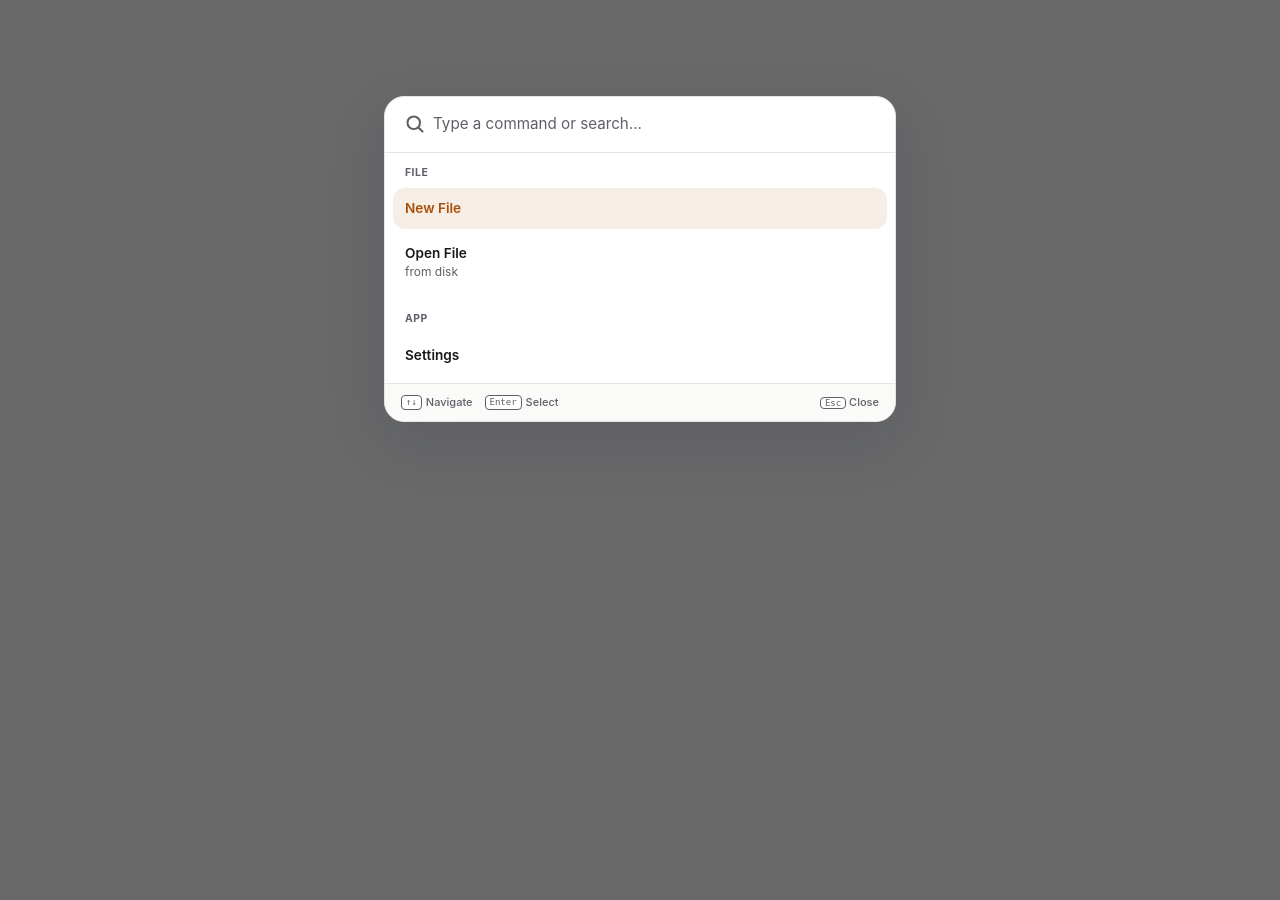
Scenario: CommandPalette › filtering › shows an empty state when nothing matches
This screenshot has width=1280, height=900.
In the dropdown: (656, 124) 433,113 -> 879,136, type "zzz"
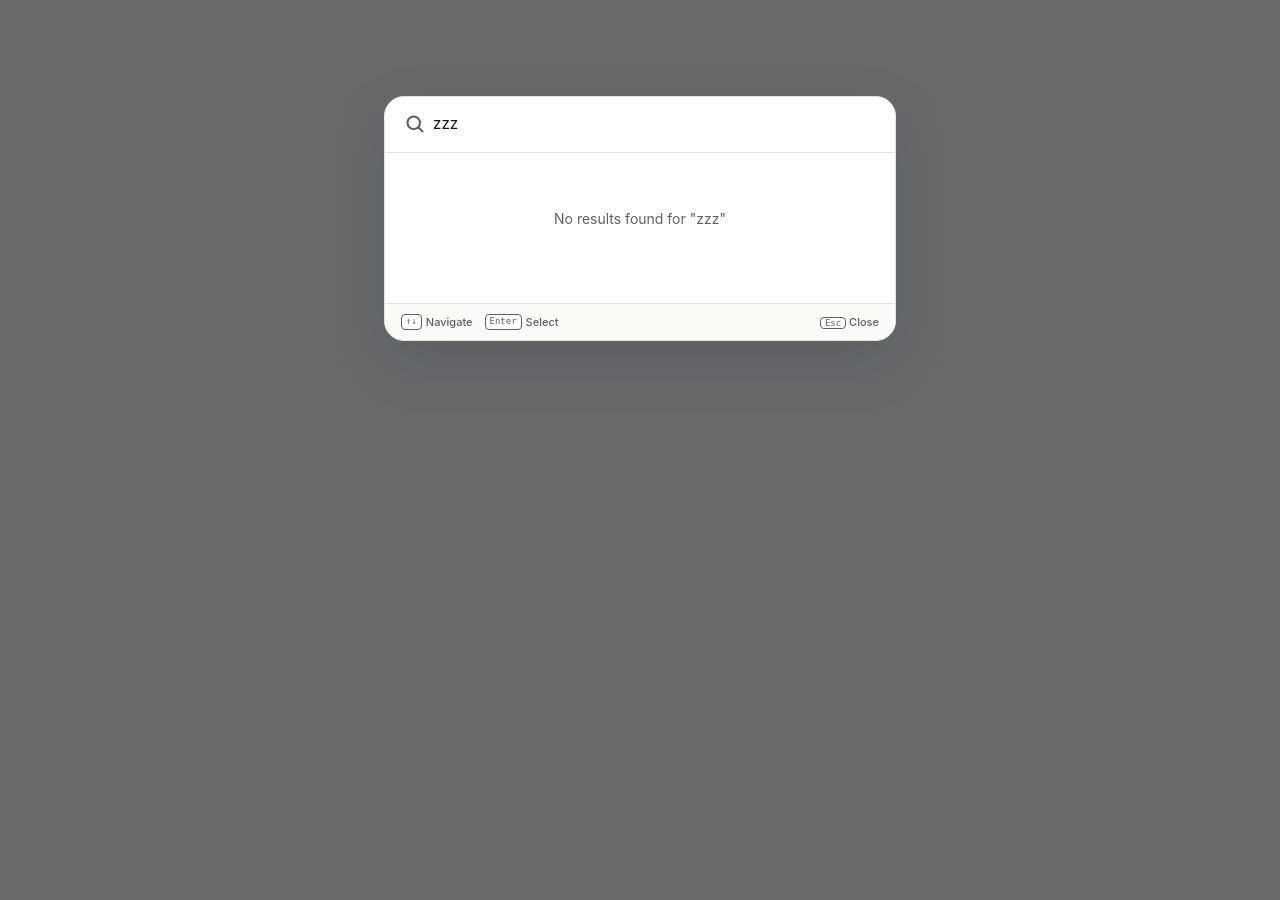
Expected: no options are shown
Expected: the text "No results found for \"zzz\"" is shown, 554,210 -> 726,227
